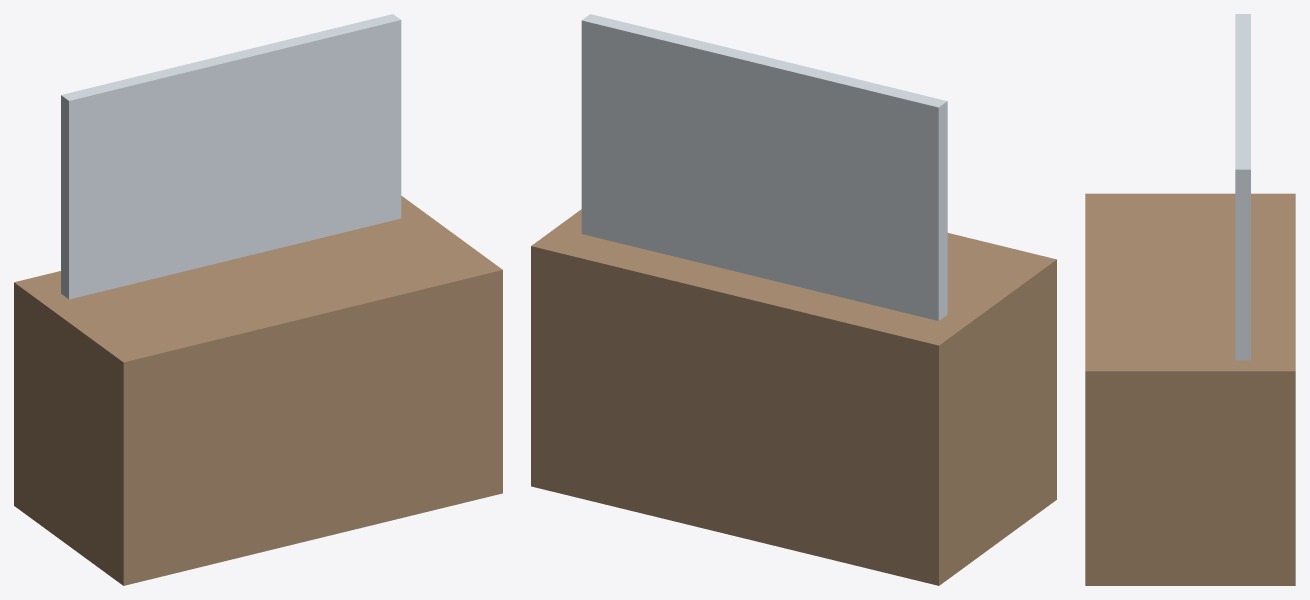
Rendered from mirror_vanity.glb.
3 views of the same model, side by side, from view 1: azimuth 30°, elevation 25°; view 2: azimuth 150°, elevation 25°; view 3: azimuth 270°, elevation 25° (orthographic). The views are drawn at different scales.
Parts seen in each view (by area): view 1: vanity, mirror; view 2: vanity, mirror; view 3: vanity, mirror.
Boxes of the visible parts, <box> form: vanity: <box>14,196,502,585</box>; mirror: <box>61,14,401,299</box>; vanity: <box>531,209,1056,585</box>; mirror: <box>581,14,947,320</box>; vanity: <box>1085,193,1295,585</box>; mirror: <box>1235,14,1250,360</box>.
Bounding box in the file's own units: 1.6 × 1.7 × 0.7998.
